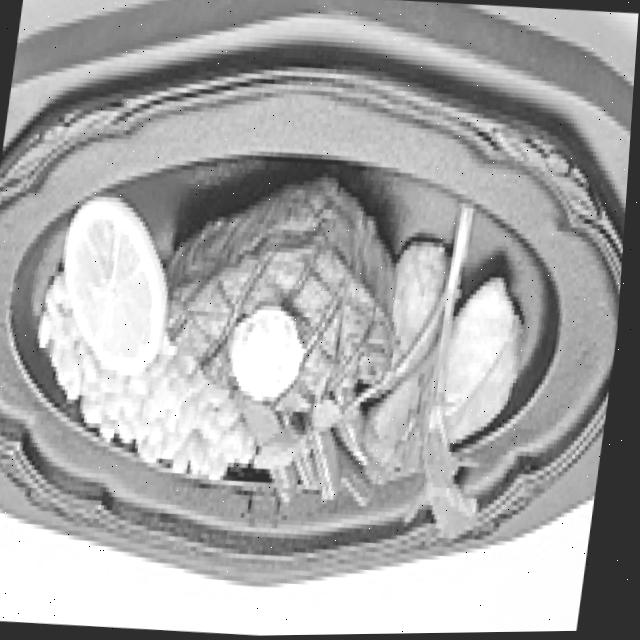牛肉菜式: (142, 156, 435, 439)
